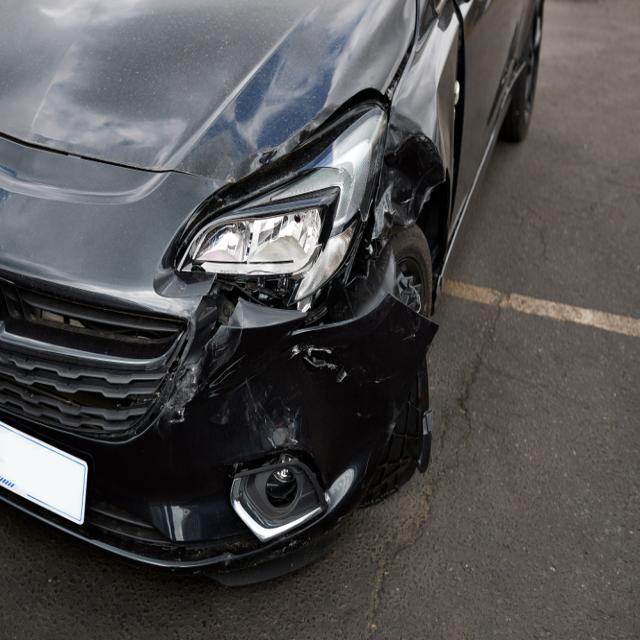dent: (33, 11, 338, 172), (206, 341, 386, 504), (373, 111, 444, 236)
lamp broken: (176, 108, 384, 297)
